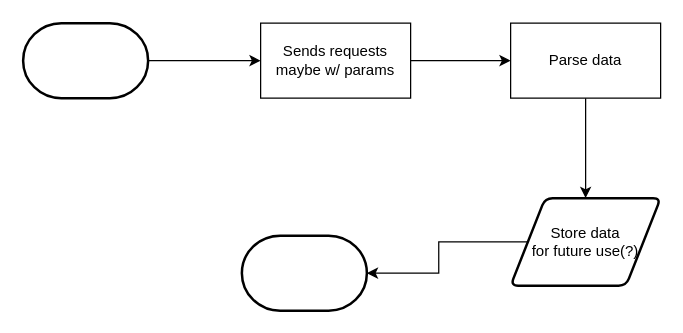
The diagram is 683 pixels wide and 333 high, and some of its shapes have lost their labels. Each missing label, with the centre of its shape:
"Display data for user" goes at (x=304, y=272).
"User" goes at (x=85, y=60).
